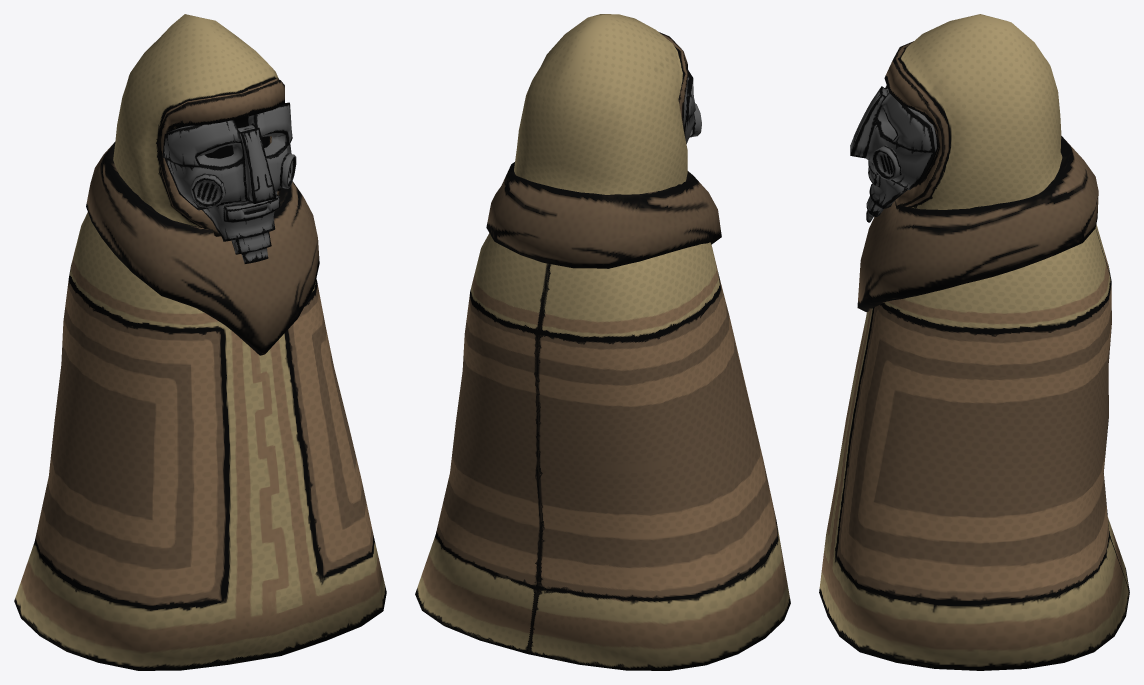
The model's file is Spelprojekt 2025  bara karaktär.fbx.
The picture shows the model from 3 angles, left to right: view 1: azimuth 30°, elevation 25°; view 2: azimuth 150°, elevation 25°; view 3: azimuth 270°, elevation 25°; orthographic projection.
Visible parts, largest first — view 1: Mask export.001; view 2: Mask export.001; view 3: Mask export.001.
Part boxes in pixels (x1,y1,x2,y2): Mask export.001: (14,14,386,670); Mask export.001: (415,14,790,670); Mask export.001: (819,14,1129,670).
Bounding box in the file's own units: 322 × 554 × 270.
